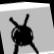not correct: (5, 8, 41, 54)
